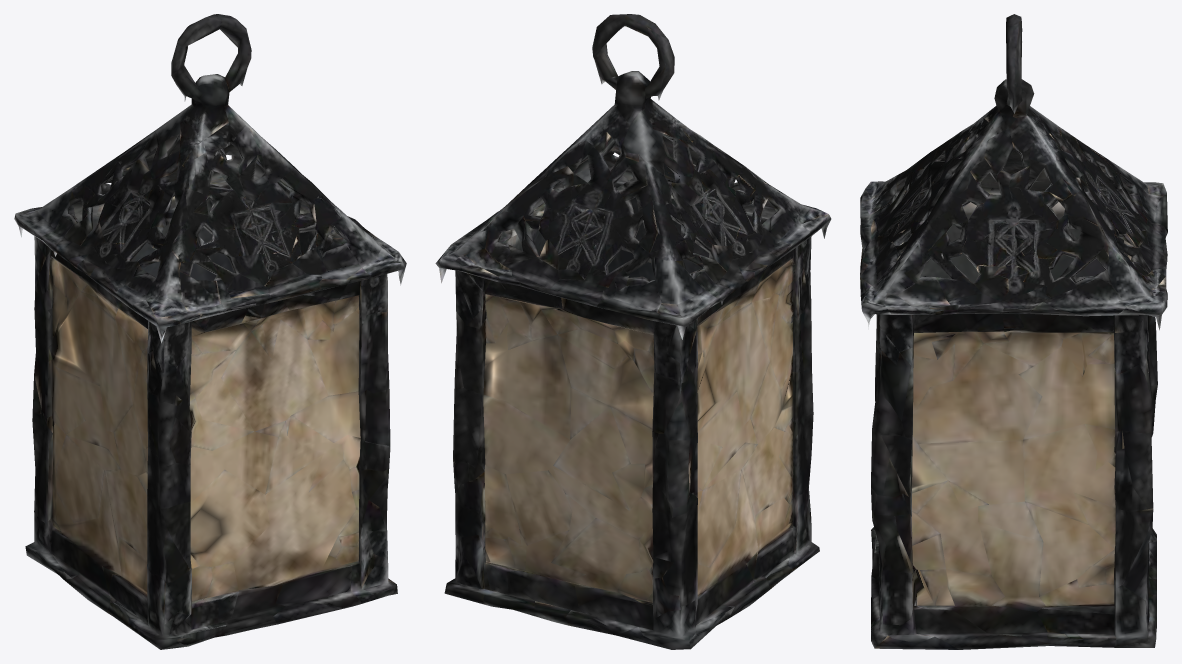
Rendered from lamplighters_lantern.042b963a.glb.
3 renders of one model, left to right at view 1: azimuth 30°, elevation 25°; view 2: azimuth 150°, elevation 25°; view 3: azimuth 270°, elevation 25°, orthographic. The views are drawn at different scales.
Parts seen in each view (by area): view 1: item; view 2: item; view 3: item.
Boxes of the visible parts, bbox=[...] form: item: bbox=[14, 14, 406, 649]; item: bbox=[435, 14, 831, 649]; item: bbox=[860, 14, 1167, 649].
Size of the model in its own units: 0.1721 by 0.3604 by 0.1757.
Materials: 1 (1 with a texture image).
